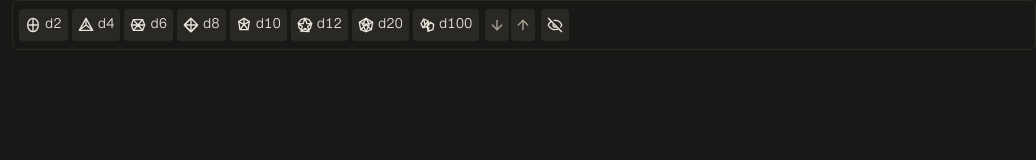
Test: показывает отказ сервера и разрешает повторный бросок
This screenshot has width=1036, height=160.
Click the button "d20".
click(380, 25)  # box [352,9,409,41]
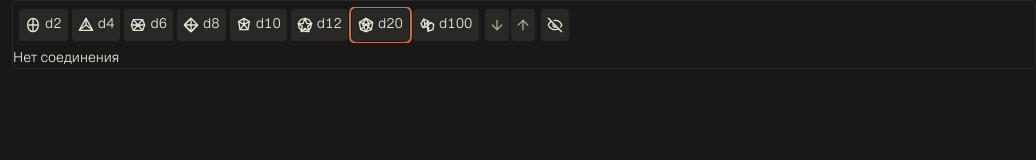
Expected: the message reads "Нет соединения", [13,52,119,65]
